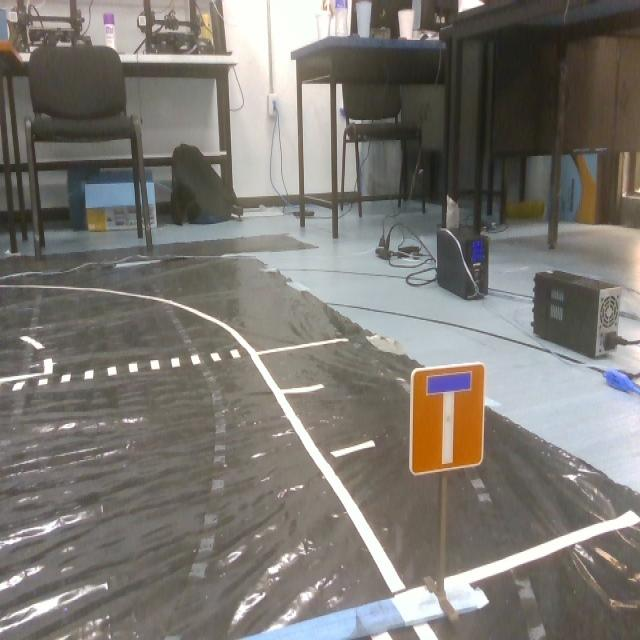stop: (411, 360, 490, 480)
